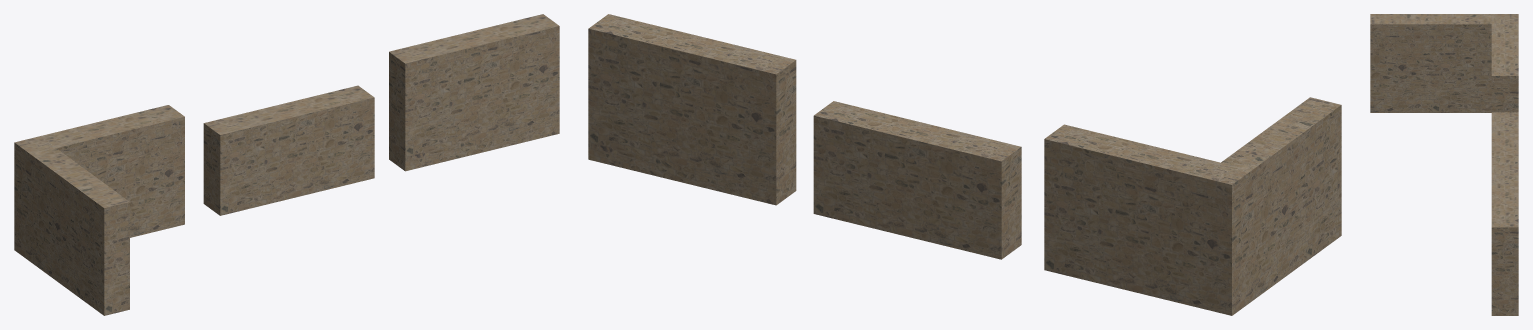
The model's file is muraMattoni.gltf.
3 renders of one model, left to right at view 1: azimuth 30°, elevation 25°; view 2: azimuth 150°, elevation 25°; view 3: azimuth 270°, elevation 25°, orthographic. The views are drawn at different scales.
Visible parts, largest first — view 1: Cube_2, Cube, Cube_1; view 2: Cube_2, Cube, Cube_1; view 3: Cube_2, Cube, Cube_1.
Part boxes in pixels (x1,y1,x2,y2): Cube_2: [14, 105, 184, 315]; Cube: [389, 14, 559, 171]; Cube_1: [203, 85, 374, 215]; Cube_2: [1044, 97, 1341, 315]; Cube: [588, 14, 796, 205]; Cube_1: [813, 101, 1021, 259]; Cube_2: [1370, 14, 1518, 112]; Cube: [1491, 165, 1518, 315]; Cube_1: [1491, 112, 1518, 164].
Bounding box in the file's own units: 6.27 × 1.23 × 1.84.
Materials: 1 (1 with a texture image).
